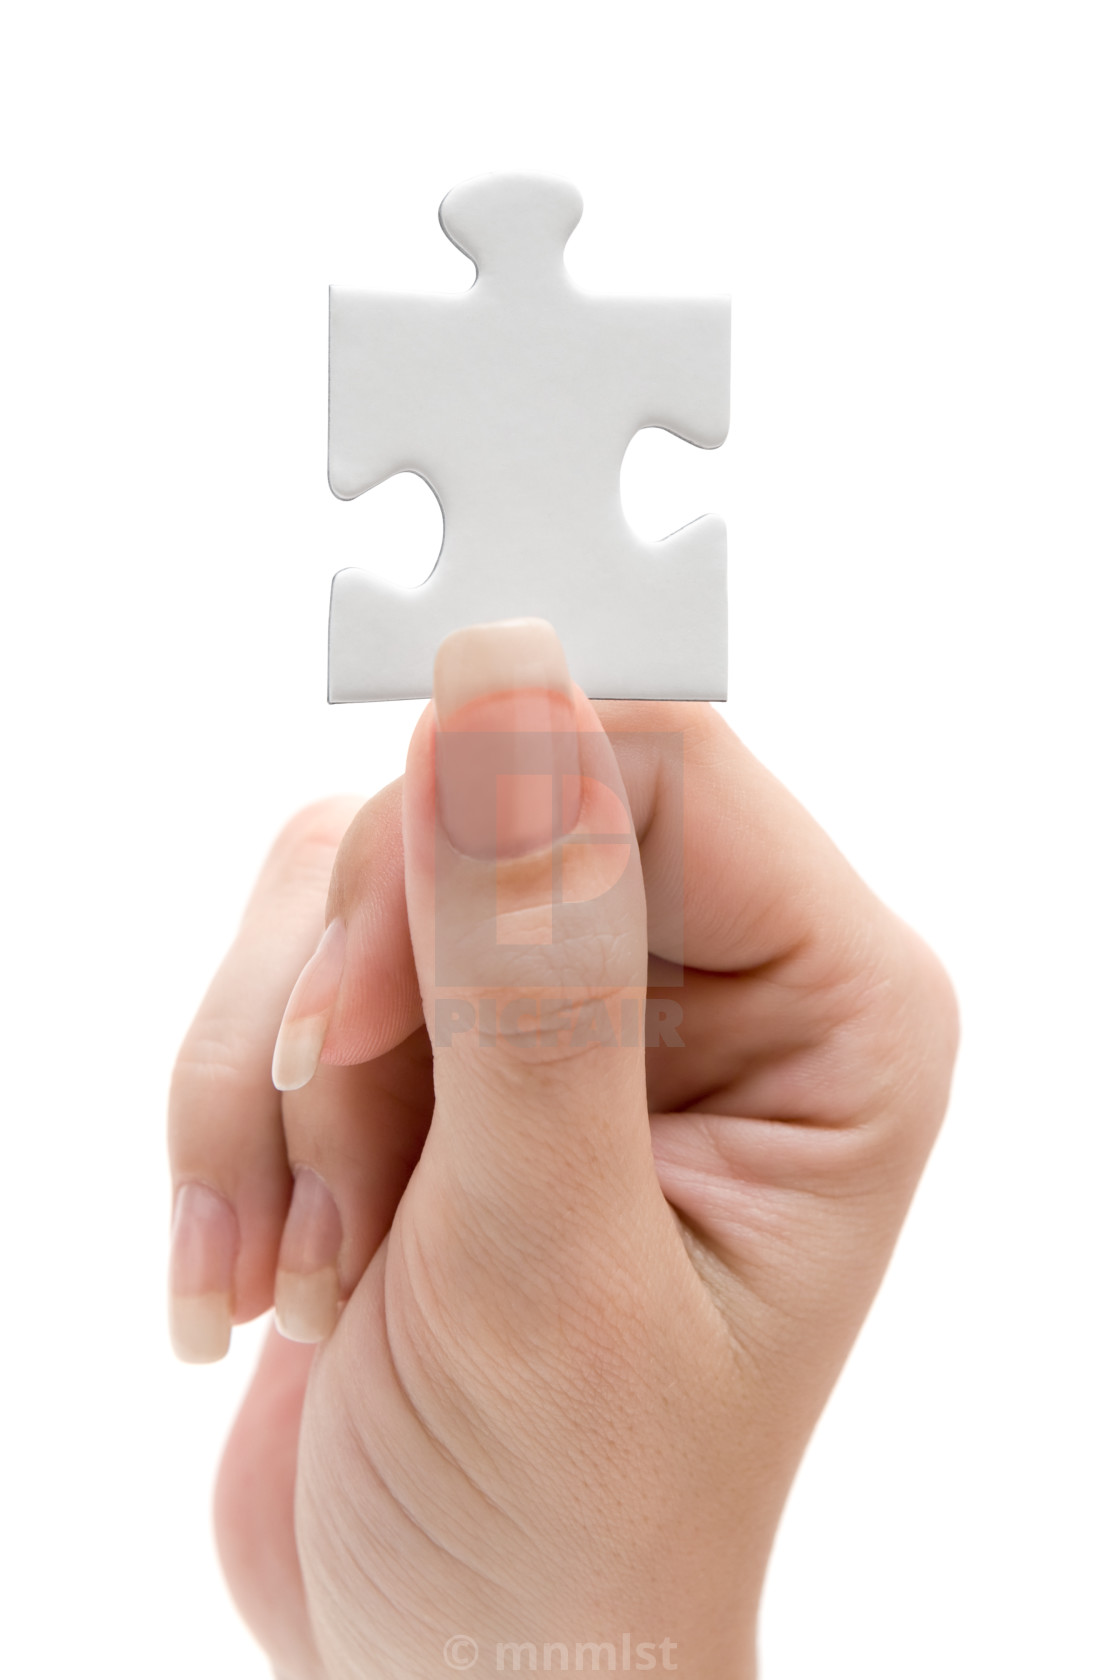puzzle piece: (279, 146, 810, 824)
